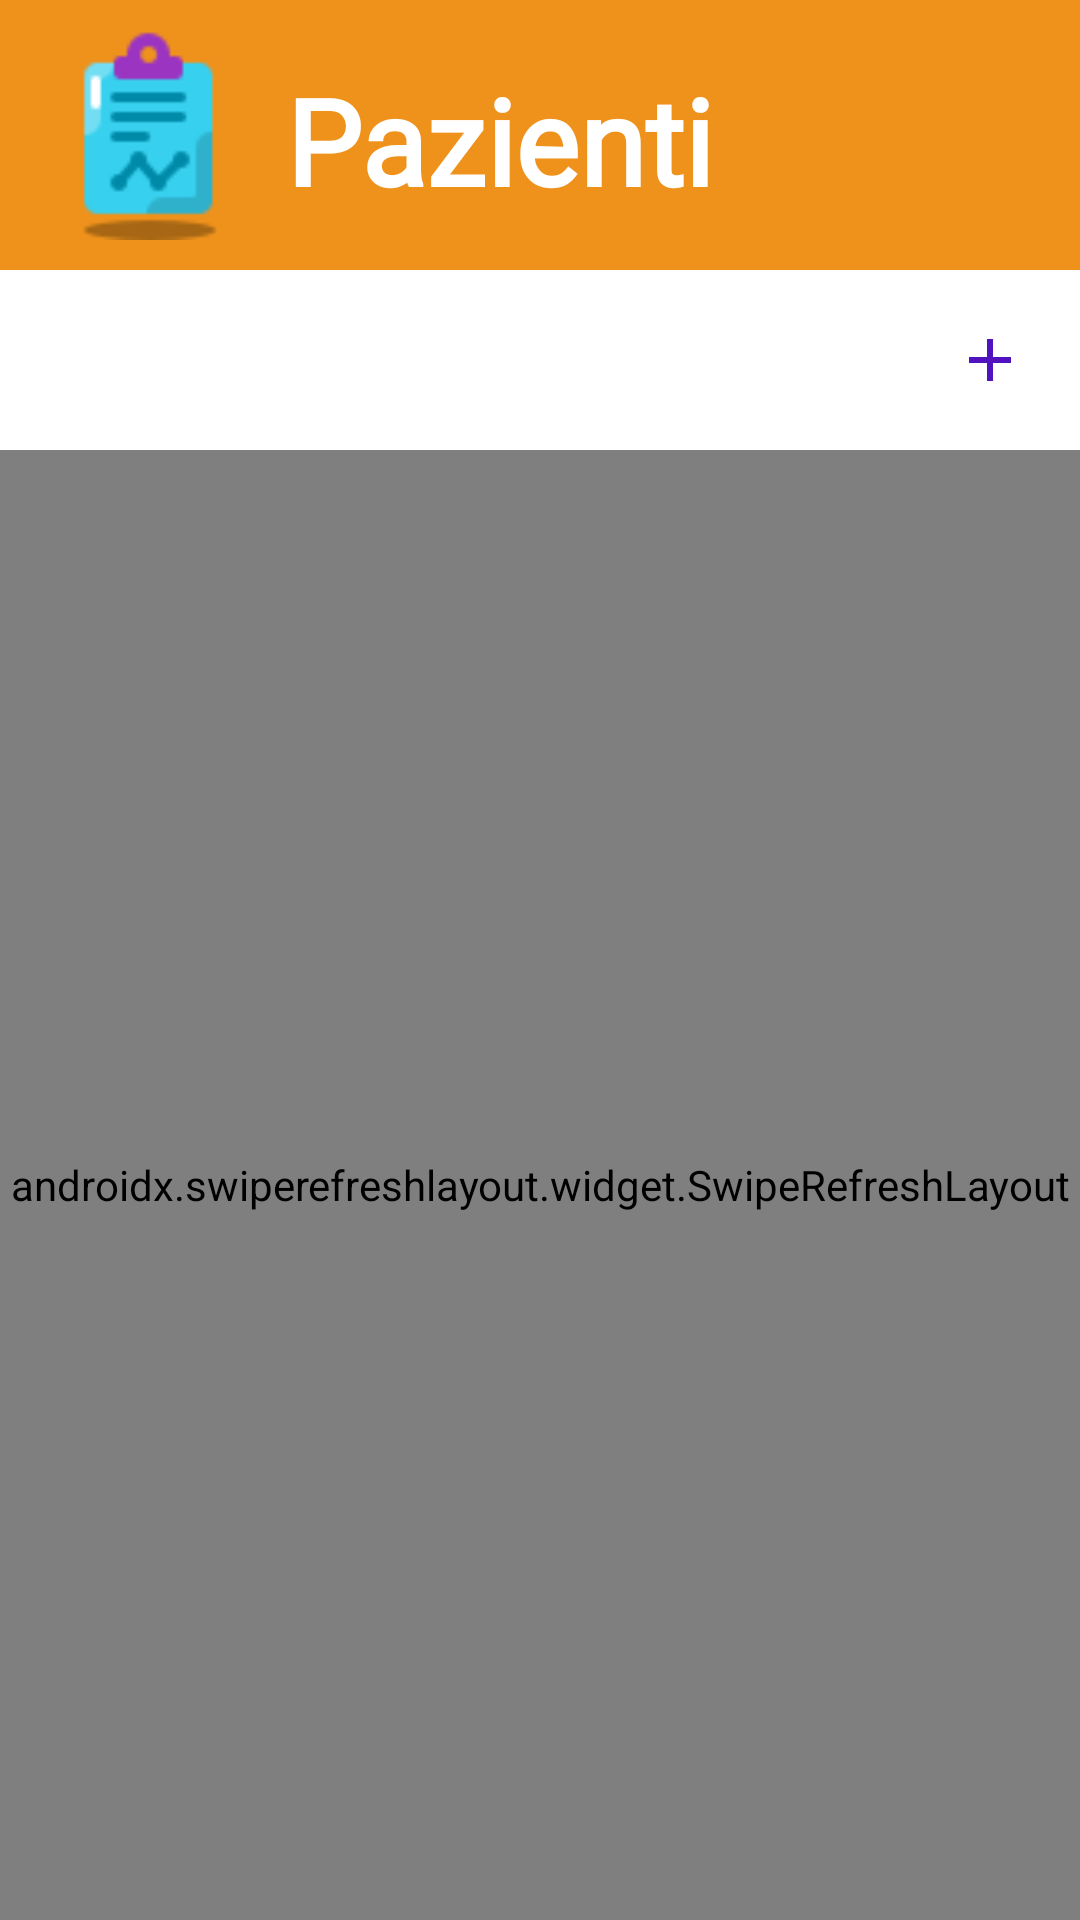

Locate icon controls on the screen. Image size 1080w x 1920h, boxes as bbox=[x1, y1, x2, y2].
add patient: bbox=[969, 339, 1011, 381]
patients menu: bbox=[83, 32, 215, 240]
